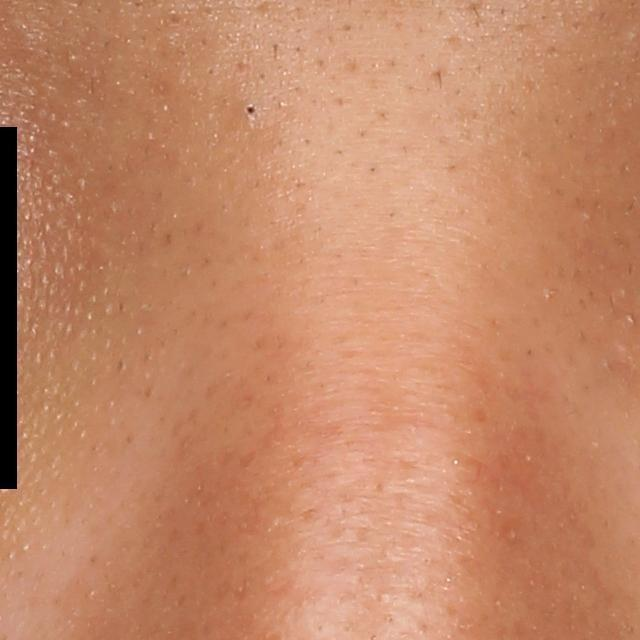comedo: (241, 100, 260, 122)
